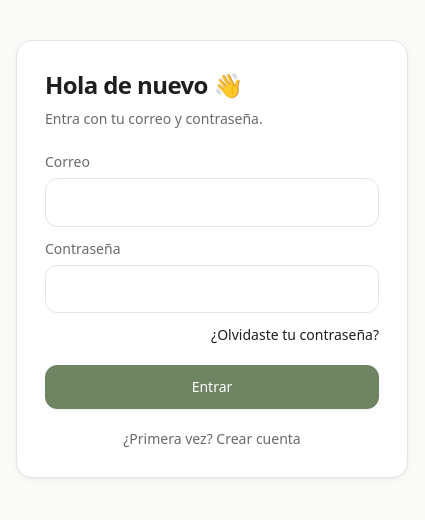
Test: sign-in form › asks for the password in Spanish when it is empty
This screenshot has width=425, height=520.
Type "ana@correo.com" into the field labelled "Correo" at (212, 202), box [45,178,379,227]
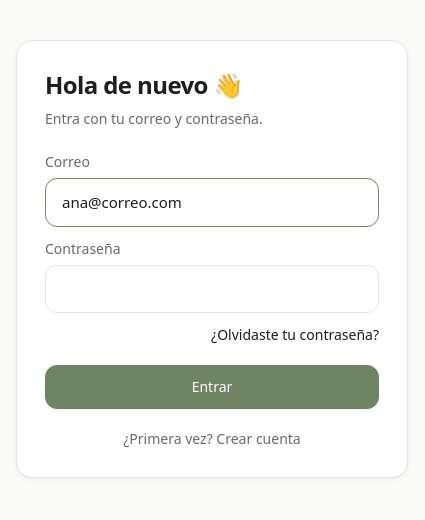
Click the button "Entrar" at (212, 387), box [45,365,379,409]
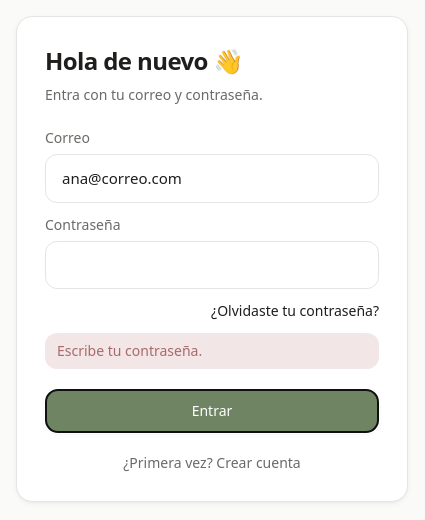
Check: the text "Escribe tu contraseña." is shown, box [45,333,379,369]
